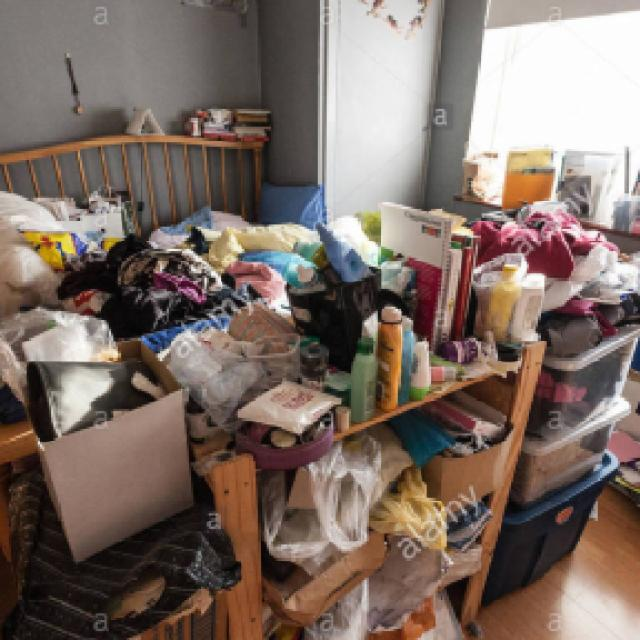scattered-items: (13, 242, 640, 640)
